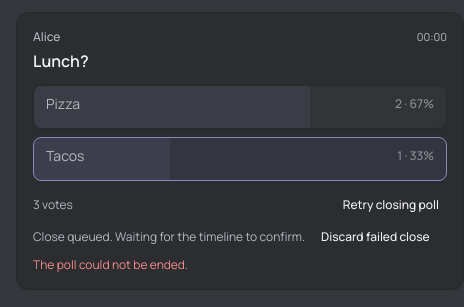
Scenario: PollMessage › does not acknowledge a retry when another renderer already removed the close
The width and height of the screenshot is (464, 307).
Click the button "Retry closing poll".
click(391, 205)  # box [335,193,447,217]
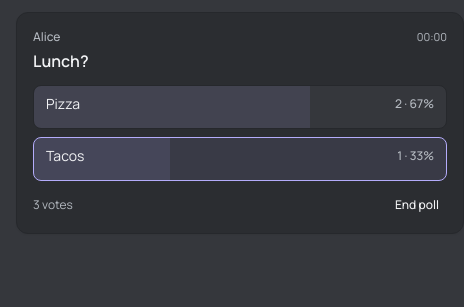
expect the button "End poll" is enabled: met, box [387,193,447,217]
expect the button "Pizza 2 · 67%" is enabled: met, box [33,85,447,129]
expect the text "Close queued" is gone: met
